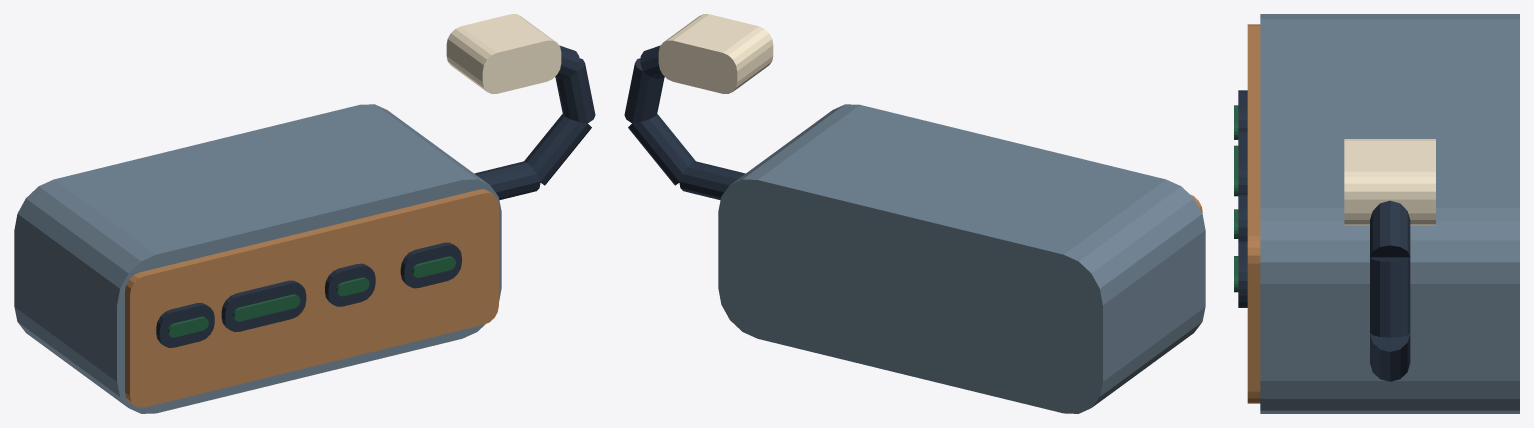
File: adapterhub.glb
3 renders of one model, left to right at view 1: azimuth 30°, elevation 25°; view 2: azimuth 150°, elevation 25°; view 3: azimuth 270°, elevation 25°, orthographic. The views are drawn at different scales.
Visible parts, largest first — view 1: shell, face, plug, port 1, cable1, port 3, cable2, cable0, port 0, port 2, port tongue 1, port tongue 3 (+2 smaller); view 2: shell, plug, cable1, cable2, cable0, cable3; view 3: shell, plug, face, cable2, cable3, cable1, port 3, port 1, port 2, port 0.
Part boxes in pixels (x1,y1,x2,y2): shell: (14, 104, 501, 413); face: (125, 189, 498, 407); plug: (446, 14, 561, 93); port 1: (221, 280, 306, 331); cable1: (524, 114, 591, 185); port 3: (400, 242, 461, 288); cable2: (555, 58, 595, 123); cable0: (474, 161, 540, 200); port 0: (156, 303, 214, 347); port 2: (325, 263, 375, 306); port tongue 1: (233, 294, 300, 321); port tongue 3: (412, 256, 455, 277); shell: (718, 104, 1205, 413); plug: (658, 14, 773, 93); cable1: (628, 114, 695, 185); cable2: (624, 58, 664, 123); cable0: (679, 161, 745, 200); cable3: (640, 45, 664, 78); shell: (1260, 14, 1519, 413); plug: (1344, 139, 1435, 225); face: (1247, 24, 1260, 403); cable2: (1370, 257, 1410, 337); cable3: (1370, 200, 1410, 257); cable1: (1370, 333, 1410, 381); port 3: (1238, 241, 1247, 307); port 1: (1238, 130, 1247, 194); port 2: (1238, 194, 1247, 241); port 0: (1238, 90, 1247, 130).
Bounding box in the file's own units: 2.02 × 0.895 × 0.749.
